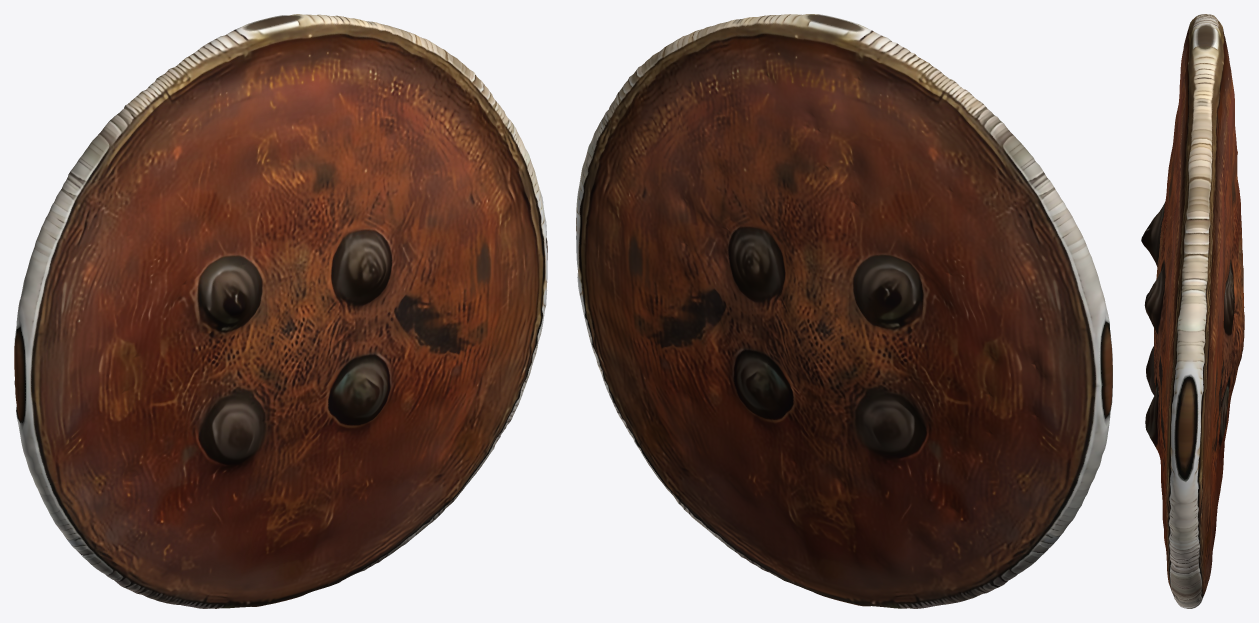
The model's file is kfl-2134.glb.
The picture shows the model from 3 angles, left to right: view 1: azimuth 30°, elevation 25°; view 2: azimuth 150°, elevation 25°; view 3: azimuth 270°, elevation 25°; orthographic projection. The views are drawn at different scales.
Visible parts, largest first — view 1: kfl-2134; view 2: kfl-2134; view 3: kfl-2134.
Part boxes in pixels (x1,y1,x2,y2): kfl-2134: [14, 14, 547, 608]; kfl-2134: [576, 14, 1112, 608]; kfl-2134: [1141, 14, 1244, 608].
Bounding box in the file's own units: 0.9494 × 0.9899 × 0.1701.
Materials: 1 (1 with a texture image).
